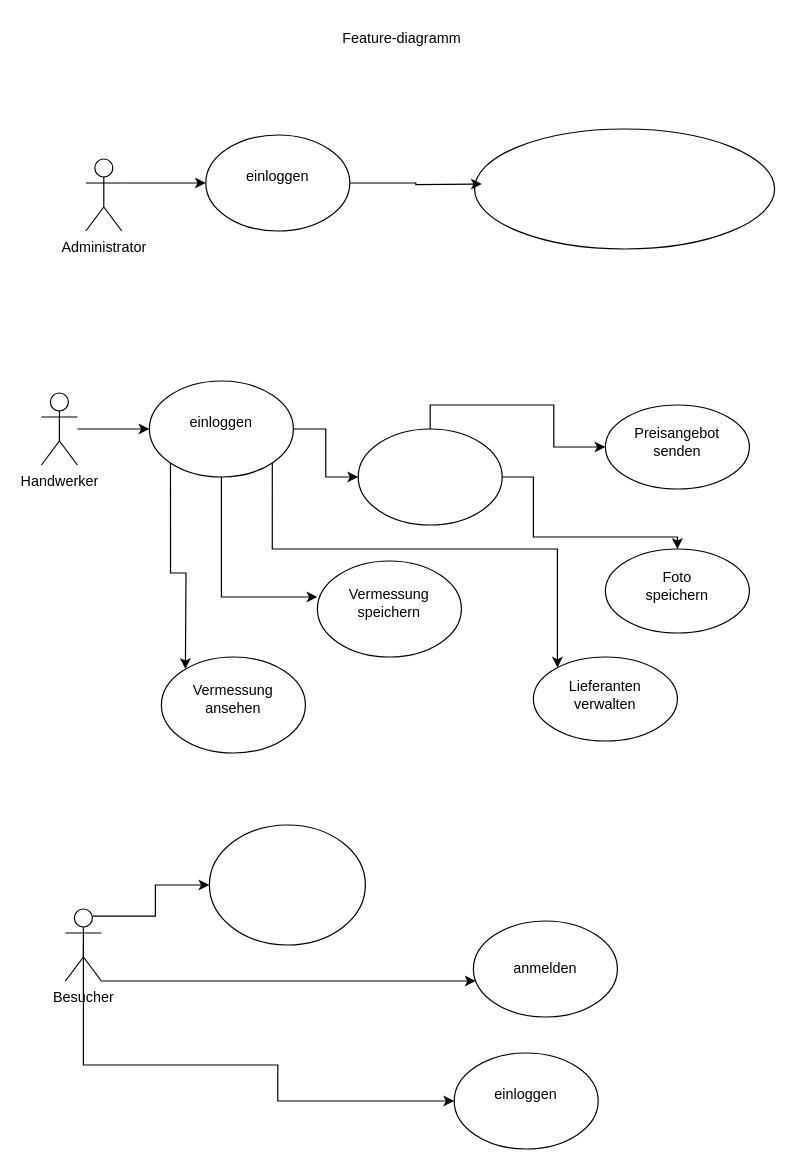
This 796x1170 diagram has some shape labels left out. Here are the shapes that lost their labels. From the top down, the centre of each, then its label:
At point (624, 188): "Handwerker verwalten".
At point (429, 476): "Raum vermessen".
At point (286, 884): "Vorstellung lesen".
